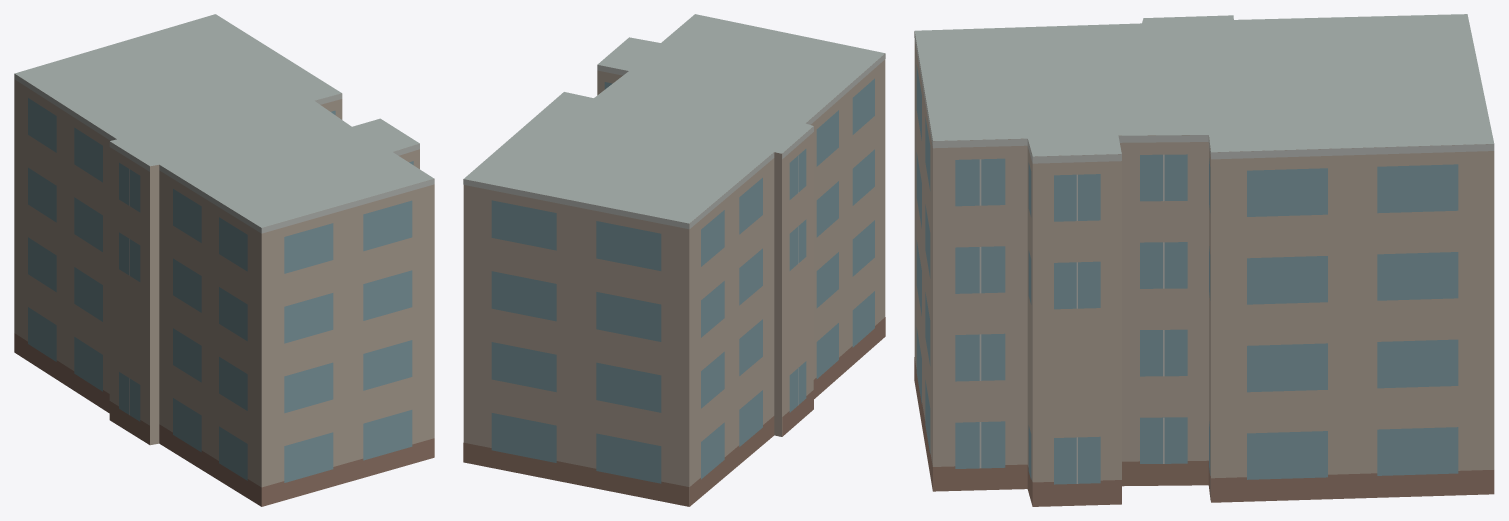
Rendered from survey-upis-32750124.glb.
The picture shows the model from 3 angles, left to right: view 1: azimuth 30°, elevation 25°; view 2: azimuth 150°, elevation 25°; view 3: azimuth 270°, elevation 25°; orthographic projection. The views are drawn at different scales.
Parts seen in each view (by area): view 1: survey-upis-32750124.tmp; view 2: survey-upis-32750124.tmp; view 3: survey-upis-32750124.tmp.
Part boxes in pixels (x1,y1,x2,y2): survey-upis-32750124.tmp: [14, 14, 434, 506]; survey-upis-32750124.tmp: [463, 14, 885, 506]; survey-upis-32750124.tmp: [914, 14, 1494, 506].
Bounding box in the file's own units: 10.49 × 12.01 × 18.02.
